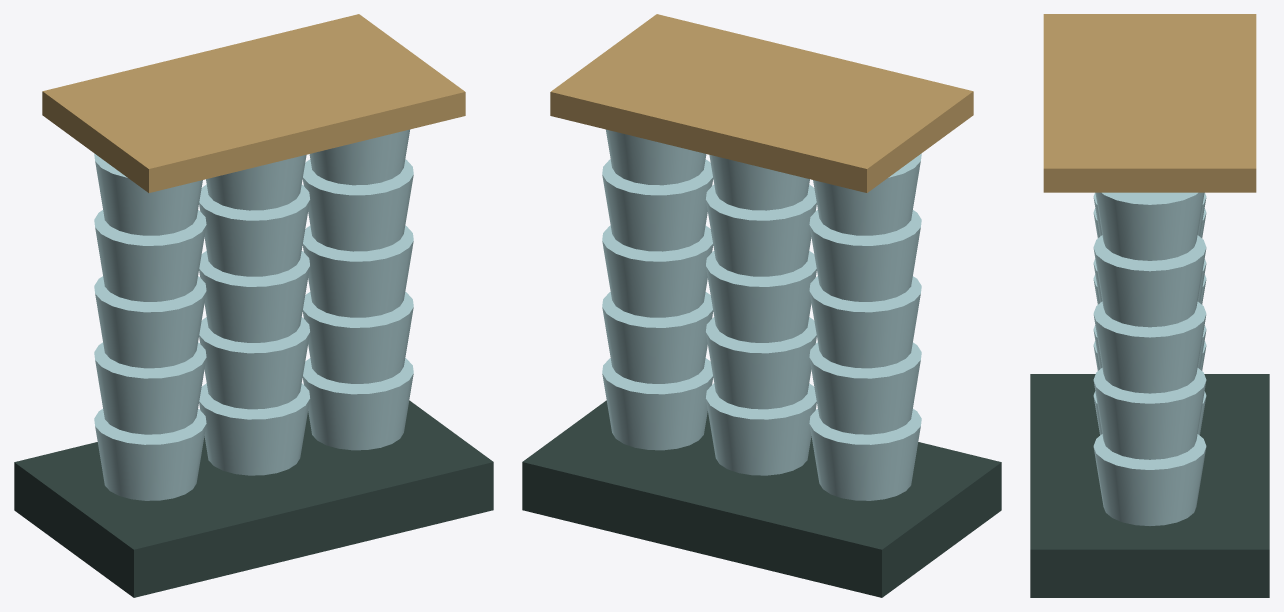
File: cold-cup-shelf.glb
The picture shows the model from 3 angles, left to right: view 1: azimuth 30°, elevation 25°; view 2: azimuth 150°, elevation 25°; view 3: azimuth 270°, elevation 25°; orthographic projection.
Parts seen in each view (by area): view 1: ClearCup (×15), Base, TopRail; view 2: ClearCup (×15), Base, TopRail; view 3: Base, TopRail, ClearCup (×5).
Part boxes in pixels (x1,y1,x2,y2): ClearCup (×15): (94,129,413,500); Base: (14,400,493,597); TopRail: (42,14,465,192); ClearCup (×15): (602,129,921,500); Base: (522,400,1001,597); TopRail: (550,14,973,192); Base: (1030,374,1269,597); TopRail: (1043,14,1256,192); ClearCup (×5): (1093,192,1206,525).
Bounding box in the file's own units: 1.25 × 1.39 × 0.72.
